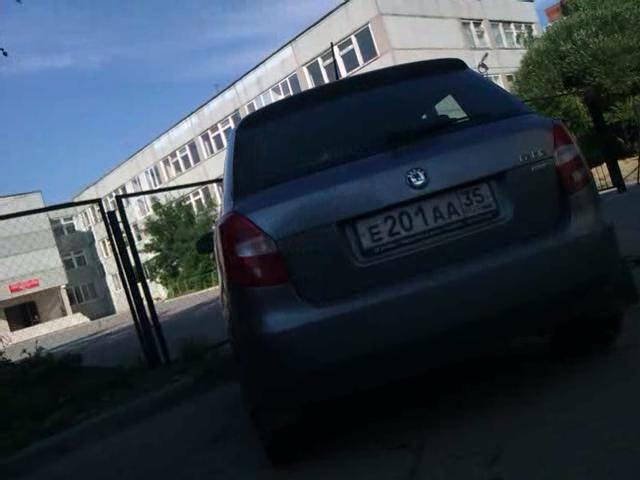car license plate: (352, 178, 501, 255)
